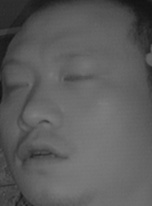blink: (62, 67, 94, 89), (5, 76, 33, 95)
mouth: (15, 134, 75, 172)
